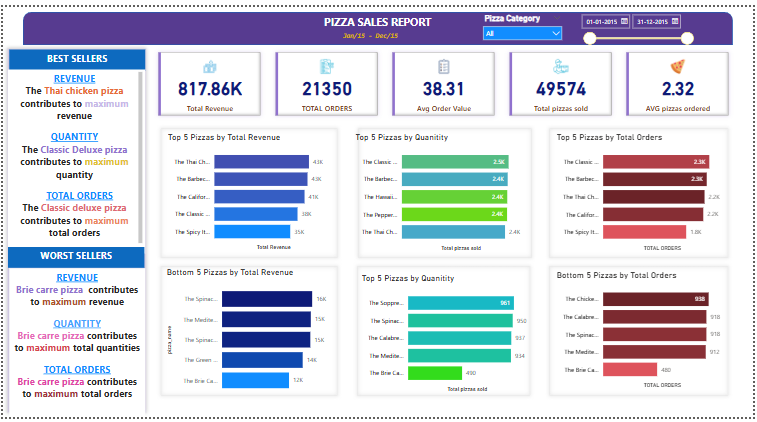

The dashboard page shown, as its layout file describes it:
{"tool":"powerbi","page":{"name":"Best/Worst Sellers","canvas":[1500,820],"ordinal":1},"visuals":[{"type":"shape","box":[0,75.7,294.3,744.3],"z":0},{"type":"cardVisual","fields":{"Data":["pythondb pizza_sales.Total Revenue","pythondb pizza_sales.TOTAL ORDERS","pythondb pizza_sales.Avg Order Value","pythondb pizza_sales.Total pizzas sold","pythondb pizza_sales.AVG pizzas ordered"]},"box":[294.3,75.7,1175.7,158.6],"z":1000},{"type":"shape","box":[40.8,9.9,1419.7,66.2],"z":2000},{"type":"textbox","box":[40,10,1418.6,54.3],"z":3000},{"type":"shape","box":[306.9,234.7,369.4,275],"z":4000},{"type":"textbox","box":[478.9,43.7,508.5,119.7],"z":5000},{"type":"textbox","box":[12,84,272,42],"z":6000},{"type":"textbox","box":[10,126,274,368],"z":7000},{"type":"textbox","box":[10,480,272.9,41.4],"z":8000},{"type":"textbox","box":[11.7,521.7,271.7,298.3],"z":9000},{"type":"slicer","fields":{"Values":["pythondb pizza_sales.pizza_category"]},"box":[950,8,178,62],"z":10000},{"type":"slicer","fields":{"Values":["pythondb pizza_sales.order_date"]},"box":[1144.3,5.7,244.3,70],"z":11000},{"type":"shape","box":[700,509.7,362.5,275],"z":12000},{"type":"shape","box":[306.9,509.7,369.4,275],"z":13000},{"type":"shape","box":[701.4,234.7,362.5,275],"z":14000},{"type":"shape","box":[1084.7,234.7,373.6,275],"z":15000},{"type":"shape","box":[1084.7,509.7,373.6,275],"z":16000},{"type":"barChart","title":"Top 5 Pizzas by Total Revenue","fields":{"Y":["pythondb pizza_sales.Total Revenue"],"Category":["pythondb pizza_sales.pizza_name"]},"box":[323.8,250,340,242.5],"z":17000},{"type":"barChart","title":"Bottom 5 Pizzas by Total Revenue","fields":{"Category":["pythondb pizza_sales.pizza_name"],"Y":["pythondb pizza_sales.Total Revenue"]},"box":[323.3,520,340,265],"z":18000},{"type":"barChart","title":"Top 5 Pizzas by Quanitity ","fields":{"Y":["pythondb pizza_sales.Total pizzas sold"],"Category":["pythondb pizza_sales.pizza_name"]},"box":[700,250,340,243.3],"z":19000},{"type":"barChart","title":"Top 5 Pizzas by Quanitity ","fields":{"Category":["pythondb pizza_sales.pizza_name"],"Y":["pythondb pizza_sales.Total pizzas sold"]},"box":[713.3,531.7,340,243.3],"z":20000},{"type":"barChart","title":"Top 5 Pizzas by Total Orders","fields":{"Category":["pythondb pizza_sales.pizza_name"],"Y":["pythondb pizza_sales.TOTAL ORDERS"]},"box":[1101.7,250,340,243.3],"z":21000},{"type":"barChart","title":"Bottom 5 Pizzas by Total Orders","fields":{"Category":["pythondb pizza_sales.pizza_name"],"Y":["pythondb pizza_sales.TOTAL ORDERS"]},"box":[1101.7,525,340,243.3],"z":22000}]}

Visuals, with their boxes in screenshot pixels (x1, y1, x2, y2), scaled from the page's 1500x820 canvas onto the 757x422 screenshot:
shape: 0 39 149 421
cardVisual - pythondb pizza_sales.Total Revenue x pythondb pizza_sales.TOTAL ORDERS: 149 39 742 121
shape: 21 5 737 39
textbox: 20 5 736 33
shape: 155 121 341 262
textbox: 242 22 498 84
textbox: 6 43 143 65
textbox: 5 65 143 254
textbox: 5 247 143 268
textbox: 6 268 143 421
slicer - pythondb pizza_sales.pizza_category: 479 4 569 36
slicer - pythondb pizza_sales.order_date: 577 3 701 39
shape: 353 262 536 404
shape: 155 262 341 404
shape: 354 121 537 262
shape: 547 121 736 262
shape: 547 262 736 404
"Top 5 Pizzas by Total Revenue" barChart: 163 129 335 253
"Bottom 5 Pizzas by Total Revenue" barChart: 163 268 335 404
"Top 5 Pizzas by Quanitity " barChart: 353 129 525 254
"Top 5 Pizzas by Quanitity " barChart: 360 274 532 399
"Top 5 Pizzas by Total Orders" barChart: 556 129 728 254
"Bottom 5 Pizzas by Total Orders" barChart: 556 270 728 395
